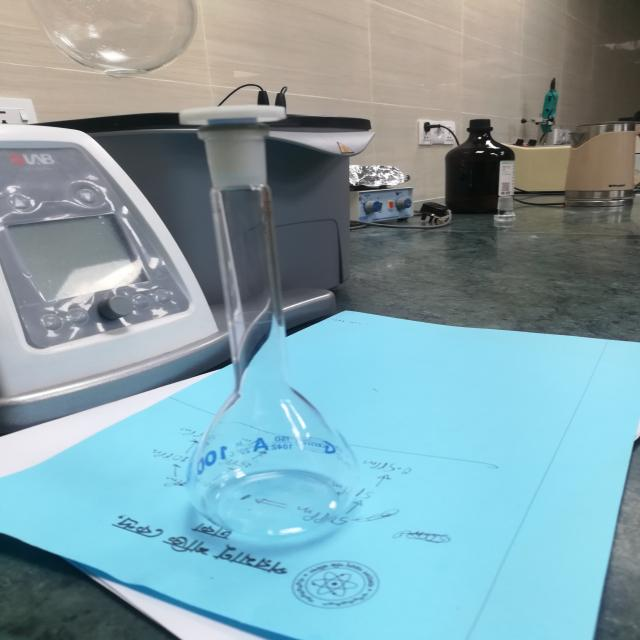Volumetric_Flask: (110, 52, 428, 573)
